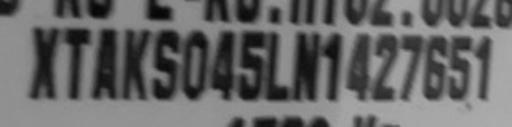letter: (28, 26, 62, 99), (61, 26, 93, 103), (236, 27, 268, 104), (120, 28, 152, 101), (150, 26, 180, 101), (292, 29, 322, 102), (208, 26, 236, 101), (91, 26, 119, 101), (343, 29, 371, 102), (264, 30, 292, 103), (182, 27, 208, 100), (398, 32, 424, 103), (372, 32, 398, 101), (421, 32, 447, 99), (446, 34, 472, 101), (470, 34, 494, 101), (322, 29, 344, 102)
